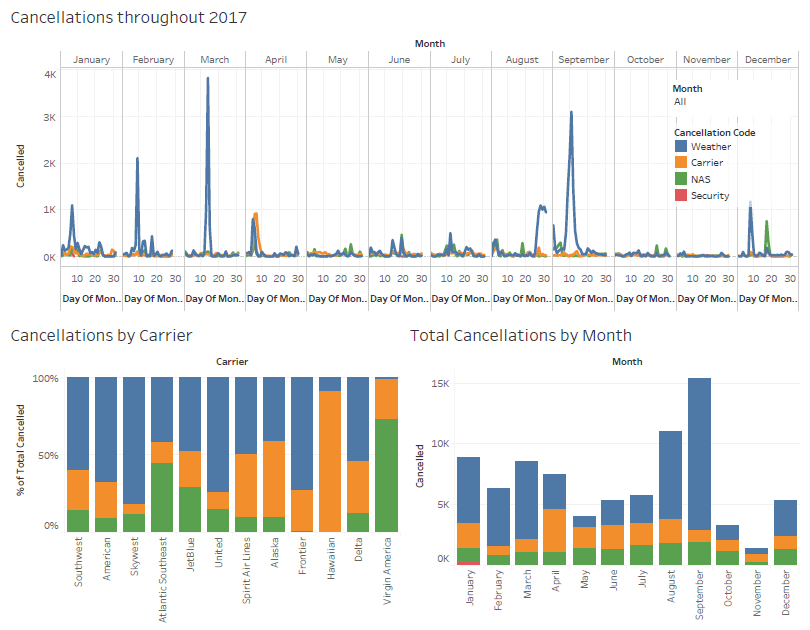

The page's visual inventory and layout, read from the dashboard file:
{"tool":"tableau","page":{"name":"Dashboard 4","canvas":[1000,800],"ordinal":0},"visuals":[{"type":"worksheet","title":"Cancel by Weather","mark":"Automatic","rows":["CANCELLED"],"cols":["MONTH","DAY_OF_MONTH"],"box":[8,8,984,392]},{"type":"filter","title":"Cancel by Weather","param":"[federated.0as00j71ngsp9e13z5v8913zjk8z].[none:MONTH:ok]","box":[831,111,146,44]},{"type":"legend","title":"Cancel by Month","param":"[federated.0as00j71ngsp9e13z5v8913zjk8z].[none:CANCELLATION_CODE:nk]","box":[832,164,140,103]},{"type":"worksheet","title":"Cancel by Carrier","mark":"Automatic","cols":["UNIQUE_CARRIER"],"box":[8,400,492,392]},{"type":"worksheet","title":"Cancel by Month","mark":"Automatic","rows":["CANCELLED"],"cols":["MONTH"],"box":[500,400,492,392]}]}

Visuals, with their boxes in screenshot pixels (x1, y1, x2, y2), scaled from the page's 1000x800 canvas onto the 810x630 screenshot:
"Cancel by Weather" worksheet: locate(6, 6, 804, 315)
"Cancel by Weather" filter: locate(673, 87, 791, 122)
"Cancel by Month" legend: locate(674, 129, 787, 210)
"Cancel by Carrier" worksheet: locate(6, 315, 405, 624)
"Cancel by Month" worksheet: locate(405, 315, 804, 624)
